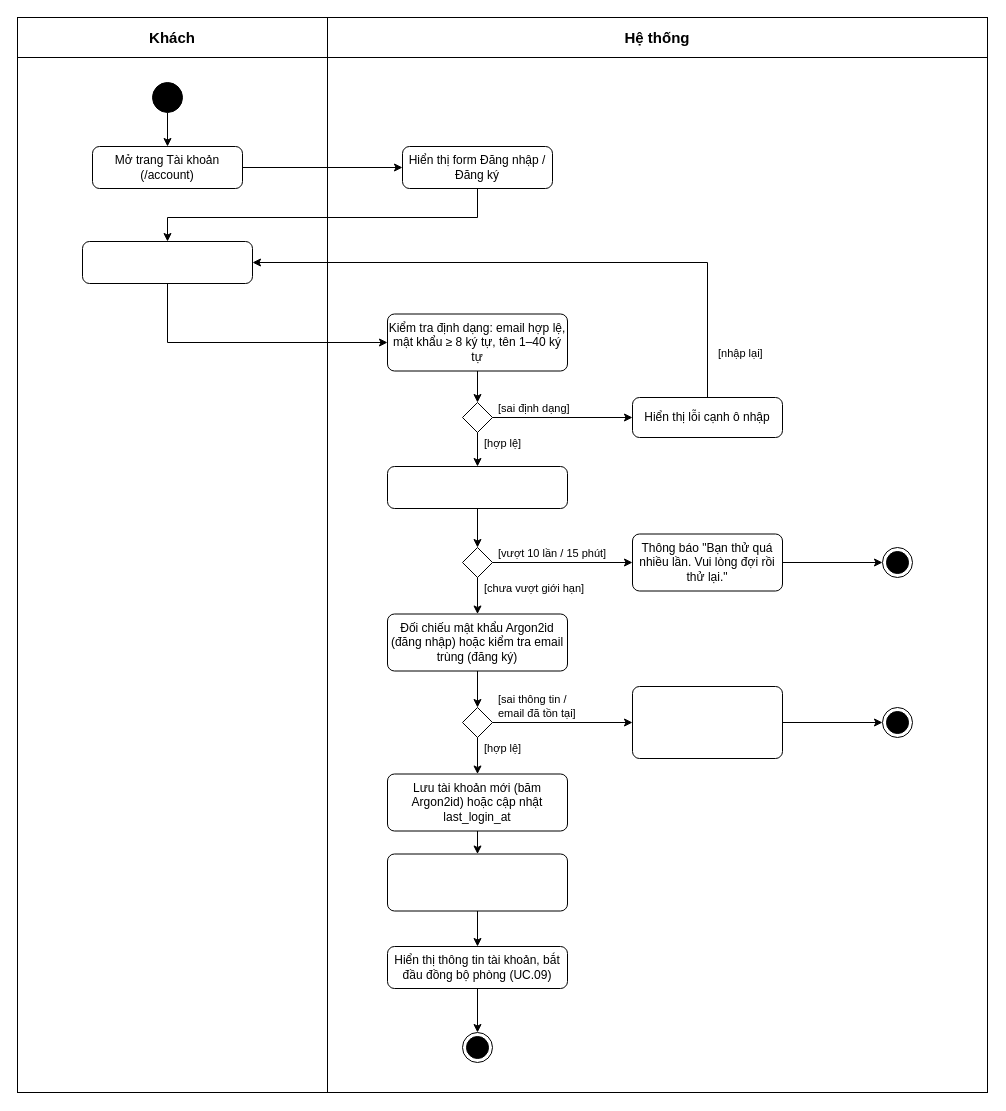
Image size: 1006x1111. Some labels were removed from this diagram. Here are the shapes that lost their labels. From the top down, the box of each, then its label:
(82, 240, 252, 284): Chọn Đăng nhập hoặc Đăng ký, nhập thông tin và gửi form
(386, 466, 568, 508): Gửi POST /auth/login hoặc POST /auth/register
(632, 686, 782, 758): Thông báo "Email hoặc mật khẩu không đúng." / "Email này đã được đăng ký."
(386, 853, 568, 911): Cấp access token 15 phút và refresh token (cookie httpOnly, 30 ngày)
